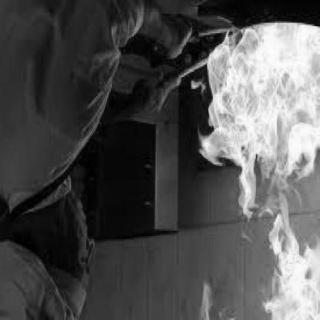Fire: (190, 23, 320, 320)
